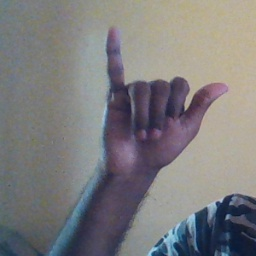J: (98, 25, 229, 177)
